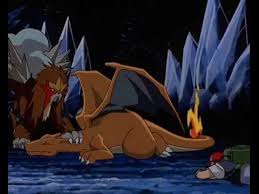charizard: (28, 62, 216, 173)
